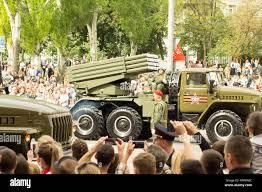MIL_SAM_TEL: (64, 53, 262, 142)
